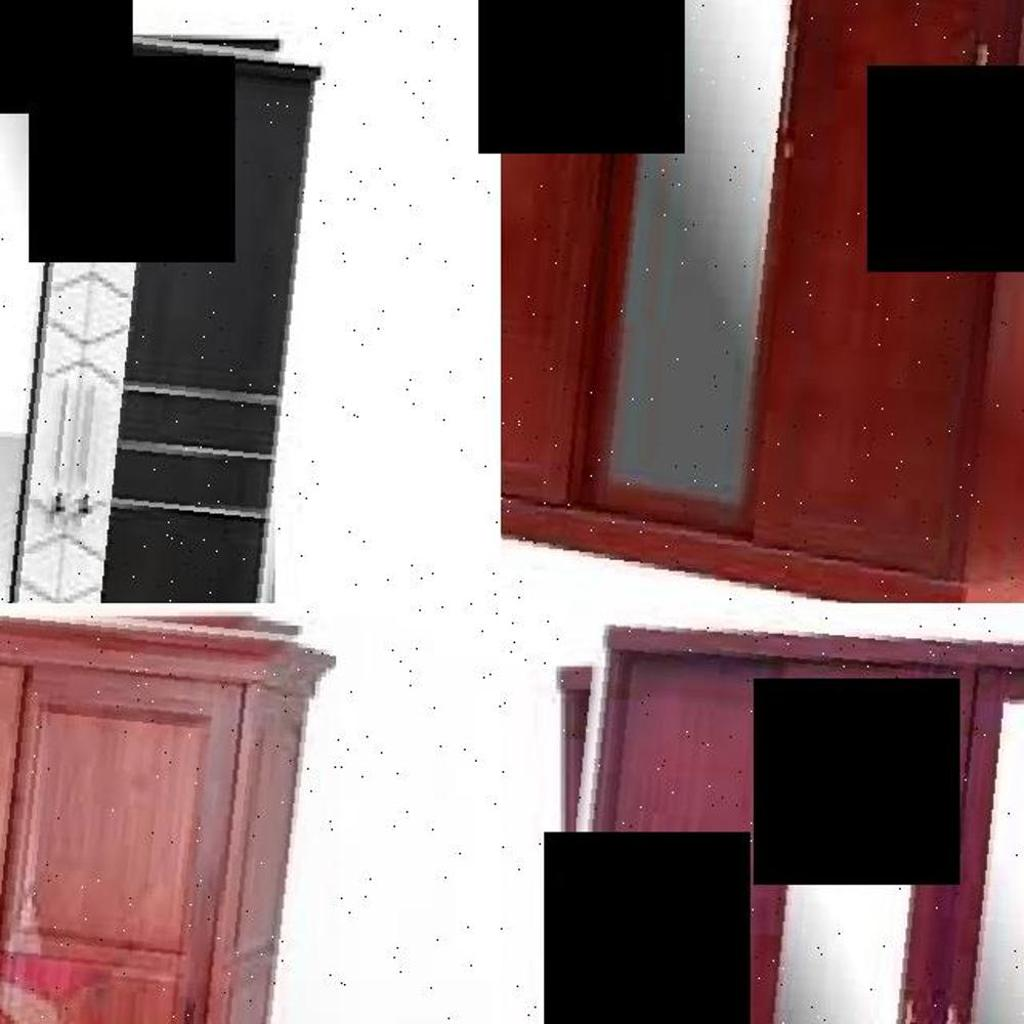cabinet: (501, 0, 1024, 603), (525, 603, 1024, 1024), (0, 18, 306, 603), (0, 603, 317, 1024)
